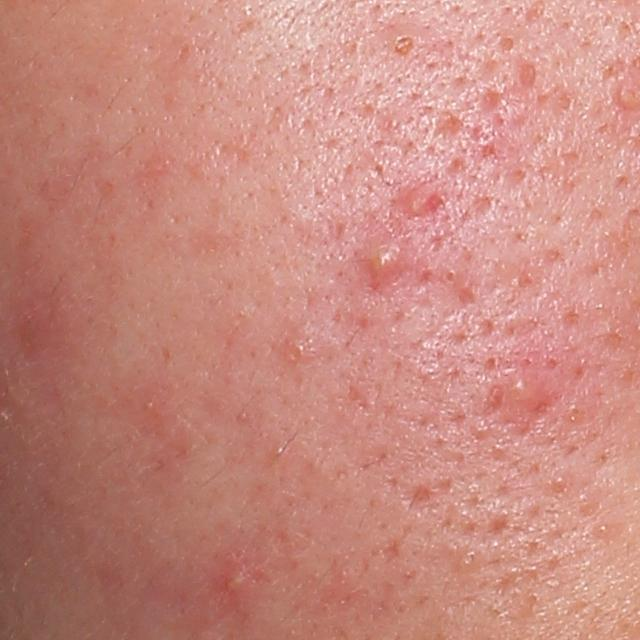comedo: (388, 32, 417, 62), (441, 269, 459, 286)
papule: (358, 237, 412, 283), (399, 182, 443, 214)
pustule: (216, 563, 256, 607)
